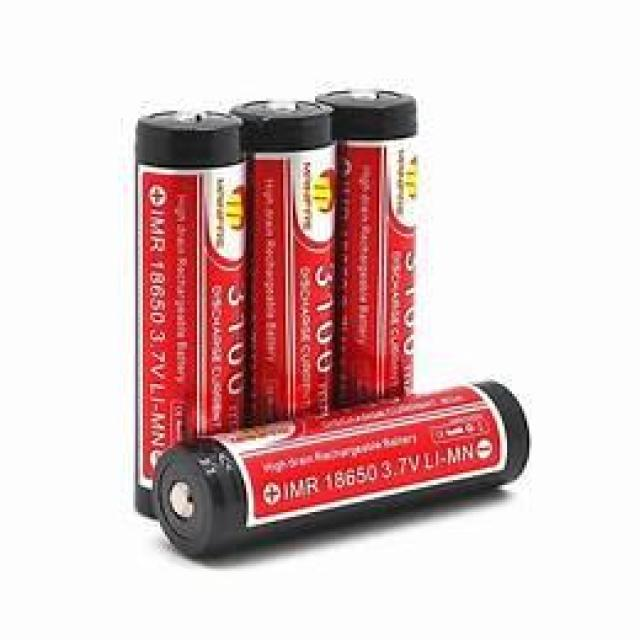battery: (150, 379, 530, 557), (133, 103, 246, 516), (236, 94, 335, 518), (320, 84, 413, 477)
